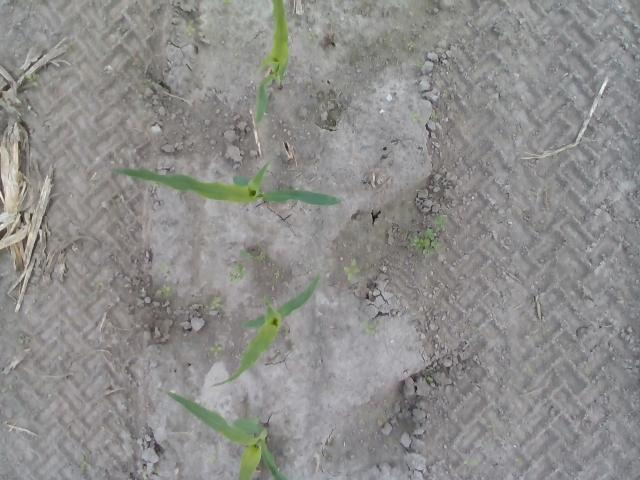Maize: (212, 272, 320, 386), (156, 388, 288, 480), (112, 159, 346, 209), (255, 0, 292, 123)
Weeds: (408, 214, 449, 257), (342, 258, 362, 281), (228, 264, 246, 283), (361, 319, 376, 336), (210, 341, 224, 358), (238, 248, 254, 262), (210, 296, 223, 310), (158, 286, 171, 298), (184, 23, 194, 36), (306, 32, 318, 41), (415, 58, 422, 68), (427, 376, 432, 383)
